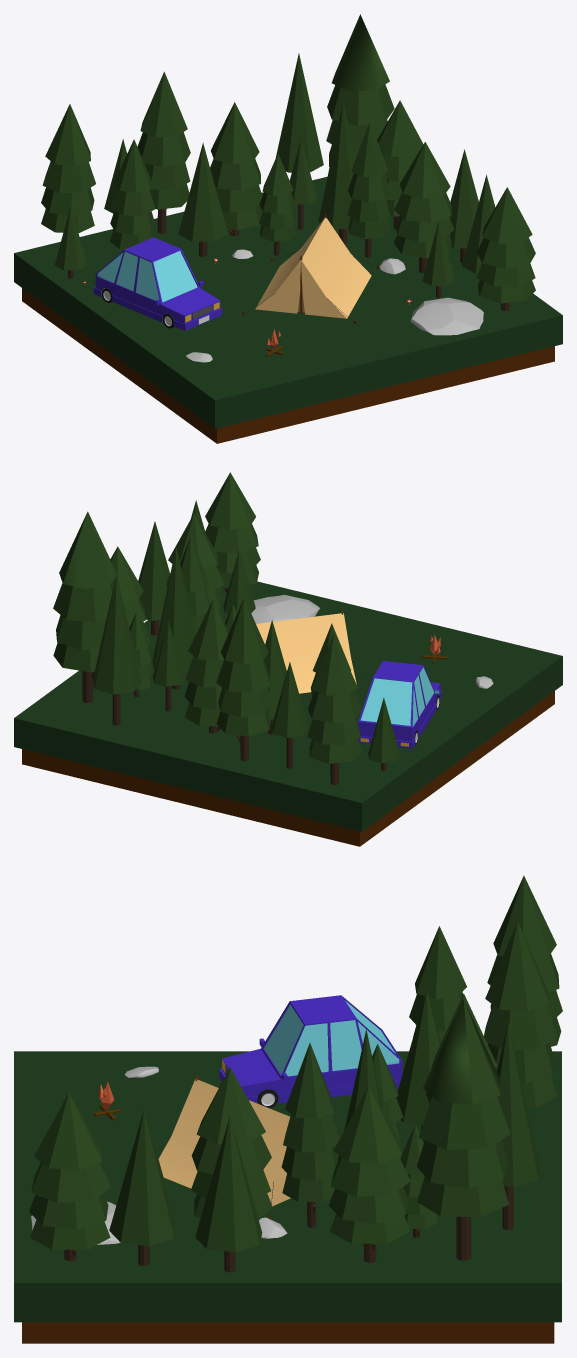
Rendered from forest_campsite.glb.
The picture shows the model from 3 angles, top to bottom: view 1: azimuth 30°, elevation 25°; view 2: azimuth 150°, elevation 25°; view 3: azimuth 270°, elevation 25°; orthographic projection. The views are drawn at different scales.
Parts seen in each view (by area): view 1: Object_6, Object_27, Object_15, Object_7, Object_17, Object_8, Object_19, Object_9, Object_21, Object_25, Object_14; view 2: Object_6, Object_27, Object_15, Object_7, Object_17, Object_8, Object_19, Object_9, Object_21, Object_25, Object_14; view 3: Object_6, Object_27, Object_15, Object_7, Object_8, Object_17, Object_9, Object_21, Object_25, Object_19, Object_14.
Boxes of the visible parts, x1=… form: Object_6: x1=14, y1=176, x2=562, y2=428; Object_27: x1=41, y1=14, x2=535, y2=303; Object_15: x1=54, y1=53, x2=495, y2=286; Object_7: x1=22, y1=288, x2=554, y2=443; Object_17: x1=255, y1=218, x2=371, y2=318; Object_8: x1=97, y1=251, x2=197, y2=302; Object_19: x1=186, y1=249, x2=483, y2=362; Object_9: x1=93, y1=237, x2=221, y2=330; Object_21: x1=134, y1=281, x2=222, y2=330; Object_25: x1=157, y1=208, x2=509, y2=310; Object_14: x1=68, y1=204, x2=466, y2=297; Object_6: x1=14, y1=581, x2=562, y2=831; Object_27: x1=53, y1=472, x2=361, y2=763; Object_15: x1=93, y1=500, x2=400, y2=763; Object_7: x1=22, y1=691, x2=554, y2=846; Object_17: x1=256, y1=613, x2=356, y2=693; Object_8: x1=360, y1=667, x2=434, y2=726; Object_19: x1=251, y1=594, x2=493, y2=688; Object_9: x1=358, y1=661, x2=441, y2=748; Object_21: x1=358, y1=677, x2=440, y2=741; Object_25: x1=82, y1=587, x2=338, y2=785; Object_14: x1=112, y1=620, x2=386, y2=770; Object_6: x1=14, y1=1051, x2=561, y2=1322; Object_27: x1=29, y1=875, x2=562, y2=1249; Object_15: x1=109, y1=990, x2=540, y2=1252; Object_7: x1=22, y1=1322, x2=554, y2=1343; Object_8: x1=264, y1=1000, x2=399, y2=1076; Object_17: x1=158, y1=1079, x2=290, y2=1206; Object_9: x1=219, y1=995, x2=402, y2=1103; Object_21: x1=219, y1=995, x2=401, y2=1096; Object_25: x1=64, y1=1202, x2=470, y2=1262; Object_19: x1=31, y1=1066, x2=287, y2=1244; Object_14: x1=138, y1=1125, x2=513, y2=1272.
Bounding box in the file's own units: 29.75 × 19.2 × 29.58.
